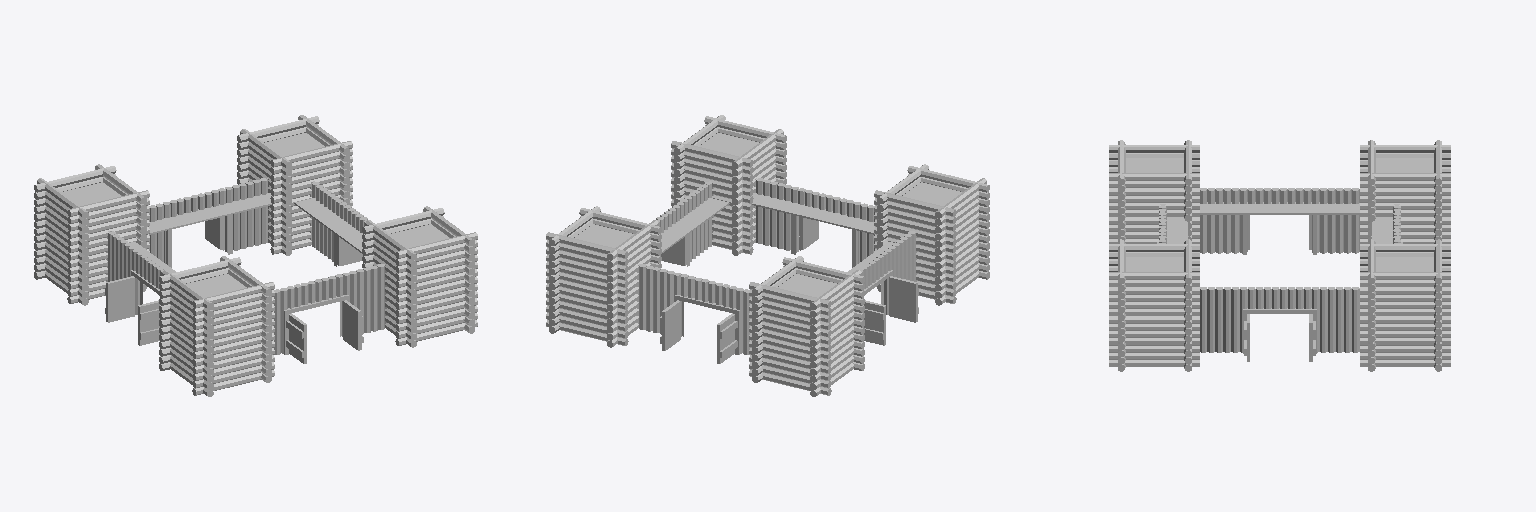
File: fortressv01.obj
3 renders of one model, left to right at view 1: azimuth 30°, elevation 25°; view 2: azimuth 150°, elevation 25°; view 3: azimuth 270°, elevation 25°, orthographic.
Visible parts, largest first — view 1: towers_Cylinder.008, walls.001_Cylinder.001, right_door.001_Cube.001, right_door_Cube.000, right_door.004_Cube.005, right_door.005_Cube.006; view 2: towers_Cylinder.008, walls.001_Cylinder.001, right_door_Cube.000, right_door.001_Cube.001, right_door.006_Cube.007, right_door.007_Cube.008; view 3: towers_Cylinder.008, walls.001_Cylinder.001.
Part boxes in pixels (x1,y1,x2,y2): towers_Cylinder.008: (34,115,477,396); walls.001_Cylinder.001: (106,178,387,354); right_door.001_Cube.001: (105,276,134,322); right_door_Cube.000: (138,300,159,345); right_door.004_Cube.005: (343,300,363,350); right_door.005_Cube.006: (286,313,306,363); towers_Cylinder.008: (546,115,989,396); walls.001_Cylinder.001: (636,178,917,354); right_door_Cube.000: (889,276,918,322); right_door.001_Cube.001: (864,300,885,345); right_door.006_Cube.007: (660,300,680,350); right_door.007_Cube.008: (717,313,737,363); towers_Cylinder.008: (1109,140,1450,371); walls.001_Cylinder.001: (1157,188,1402,353).
Size of the model in its own units: 10.39 by 3.32 by 10.89.